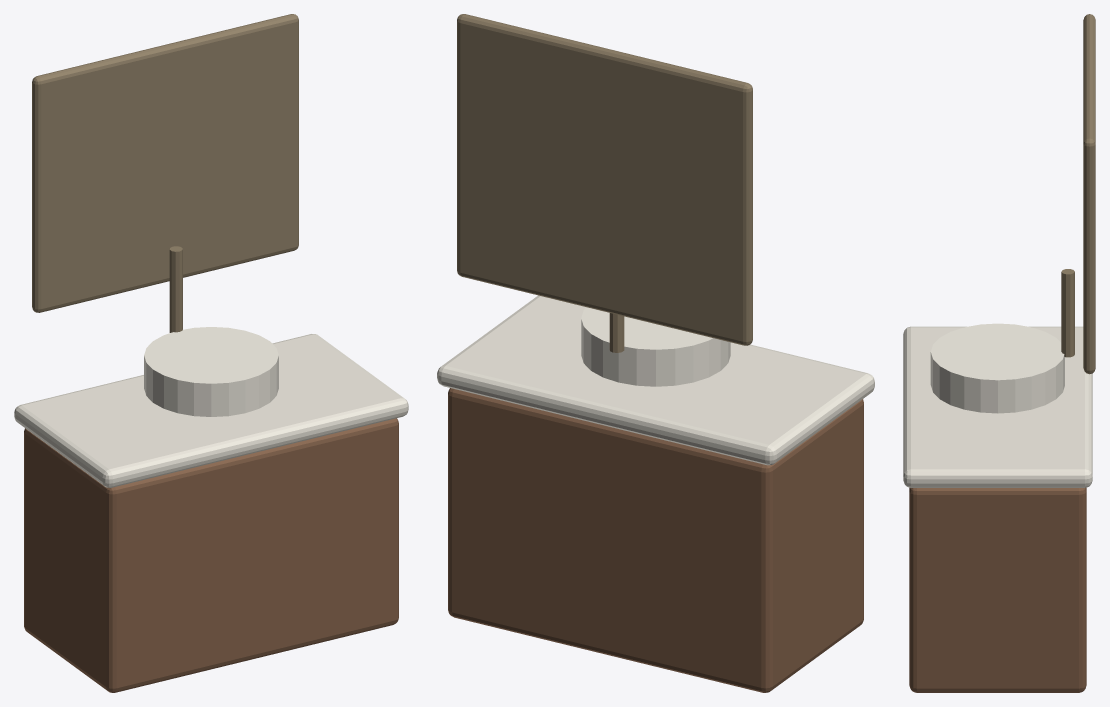
Rendered from home_vanity.glb.
3 renders of one model, left to right at view 1: azimuth 30°, elevation 25°; view 2: azimuth 150°, elevation 25°; view 3: azimuth 270°, elevation 25°, orthographic. The views are drawn at different scales.
Visible parts, largest first — view 1: vanity; view 2: vanity; view 3: vanity.
Boxes of the visible parts, <box> form: vanity: <box>14,14,408,692</box>; vanity: <box>437,14,874,692</box>; vanity: <box>903,14,1095,692</box>.
Size of the model in its own units: 1.15 by 1.98 by 0.63.
